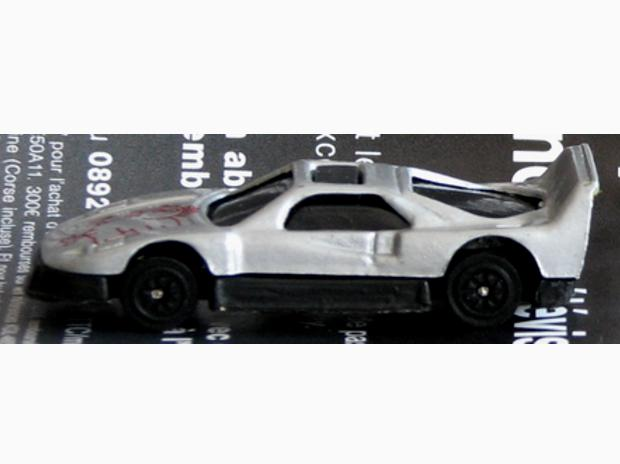toy-car: (20, 143, 604, 331)
